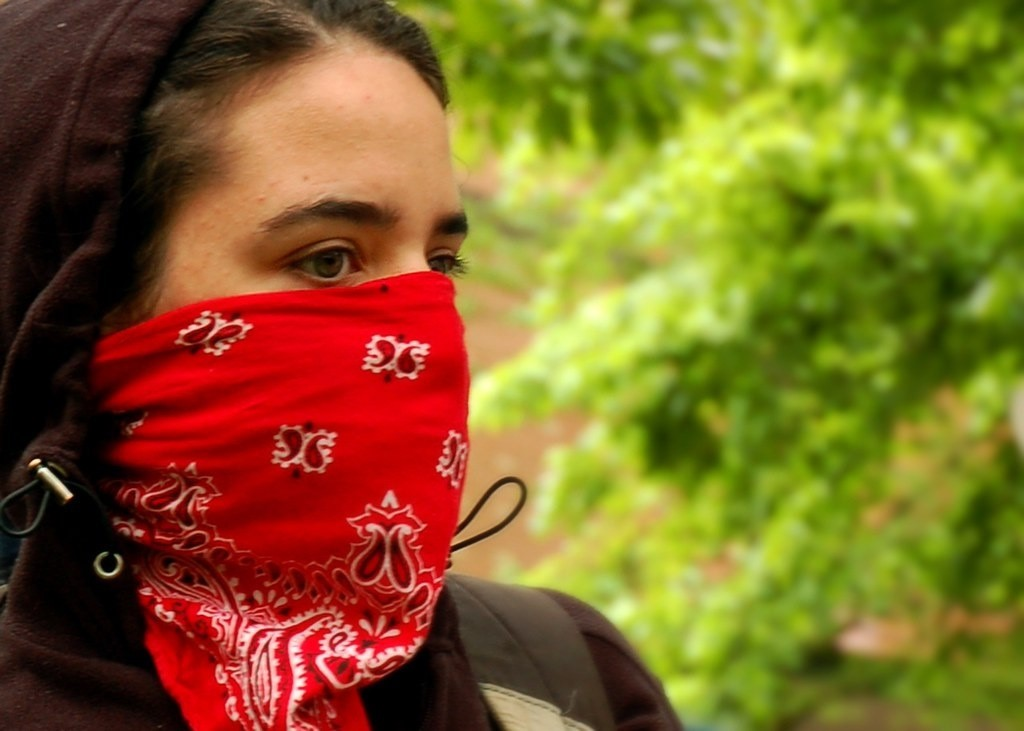face_with_mask: (77, 4, 475, 672)
